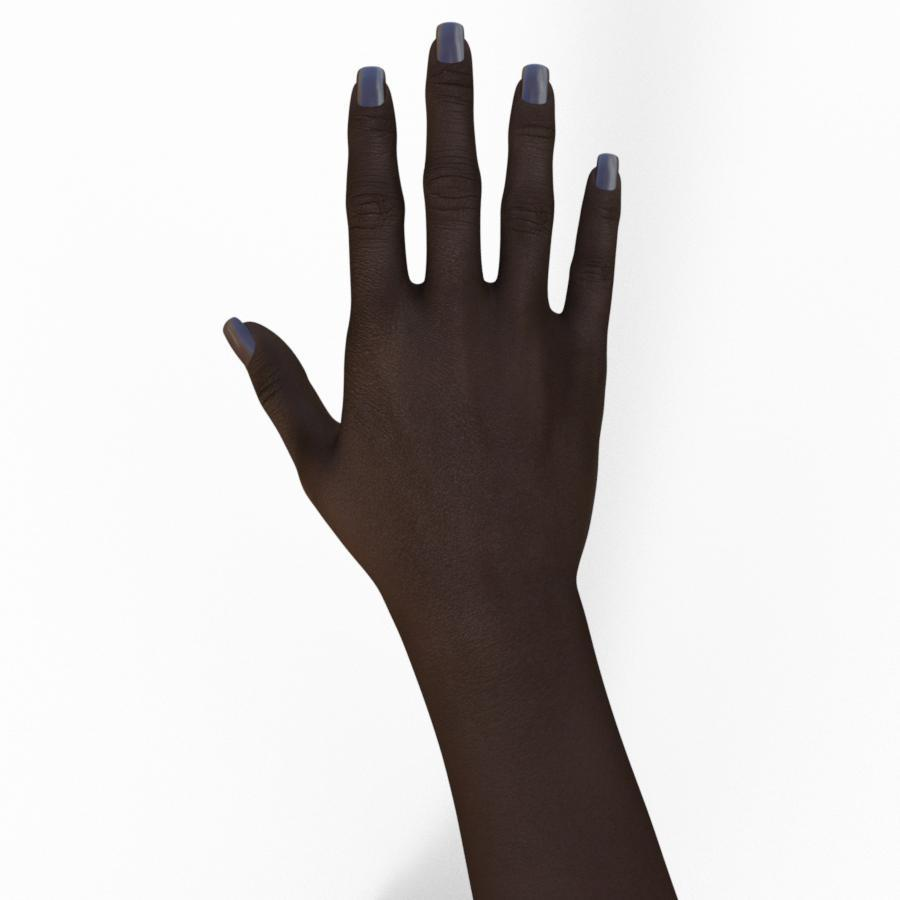paper: (225, 23, 677, 899)
